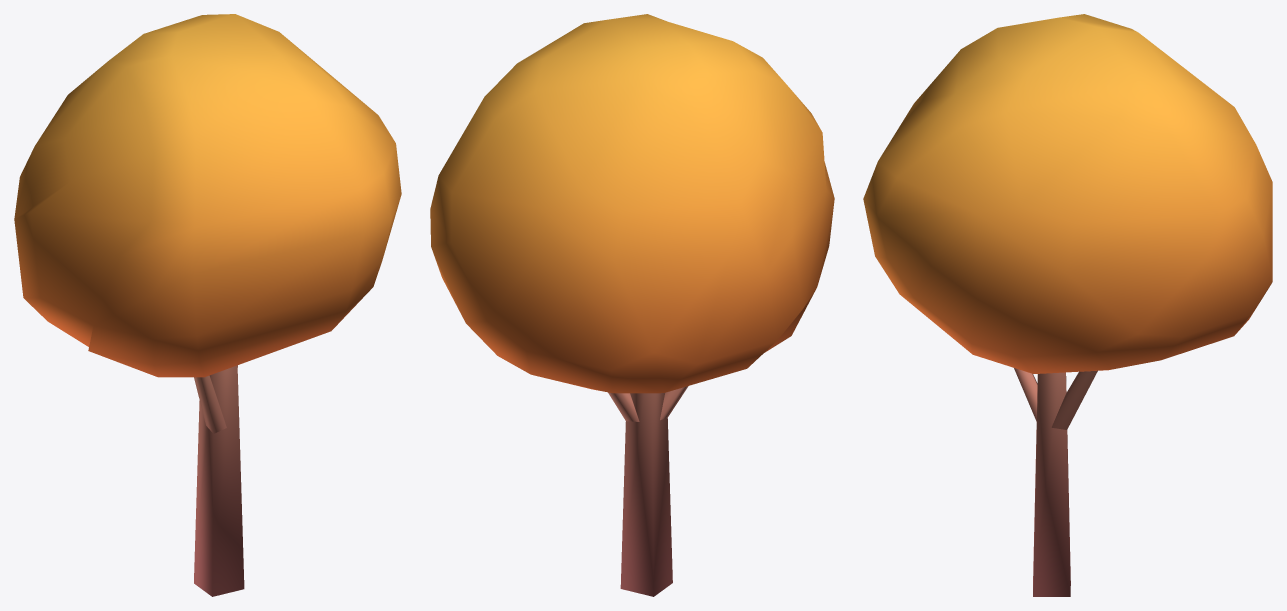
Rendered from Tree_1_2.fbx.
3 renders of one model, left to right at view 1: azimuth 30°, elevation 25°; view 2: azimuth 150°, elevation 25°; view 3: azimuth 270°, elevation 25°, orthographic. The views are drawn at different scales.
Parts seen in each view (by area): view 1: Tree_1; view 2: Tree_1; view 3: Tree_1.
Part boxes in pixels (x1,y1,x2,y2): Tree_1: (14,14,401,596); Tree_1: (430,14,834,596); Tree_1: (863,14,1272,596).
Bounding box in the file's own units: 197 × 310 × 208.
